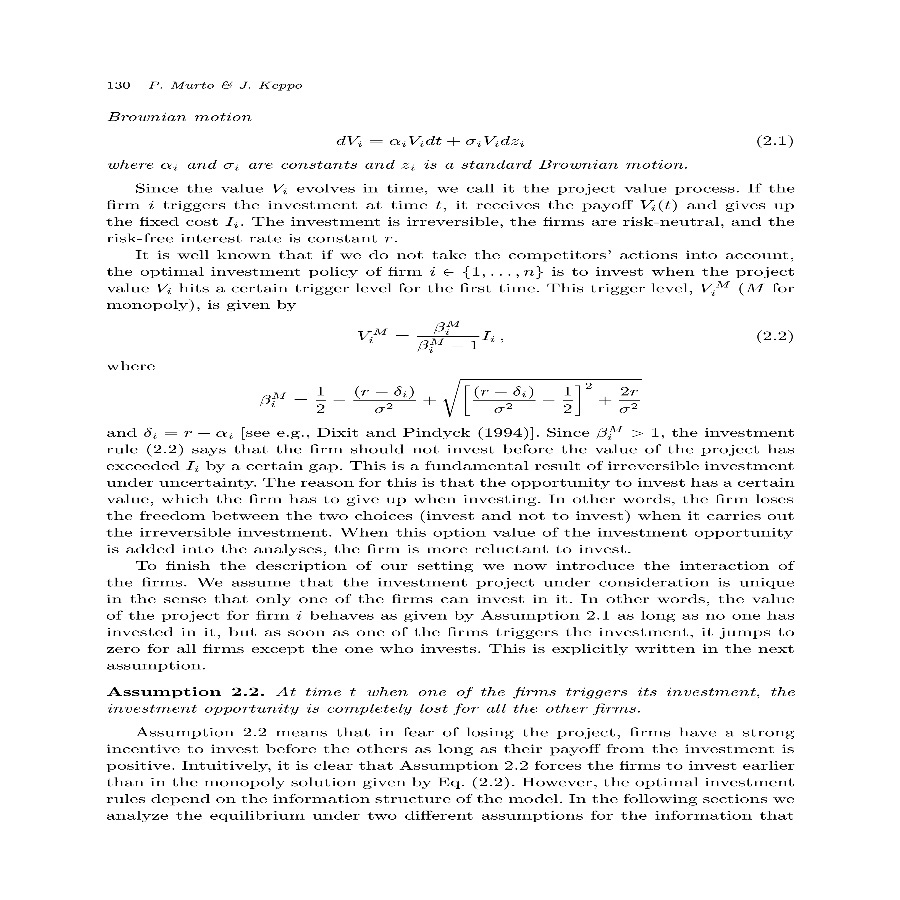eq: (253, 374, 647, 421), (354, 318, 499, 357), (331, 128, 527, 153)
